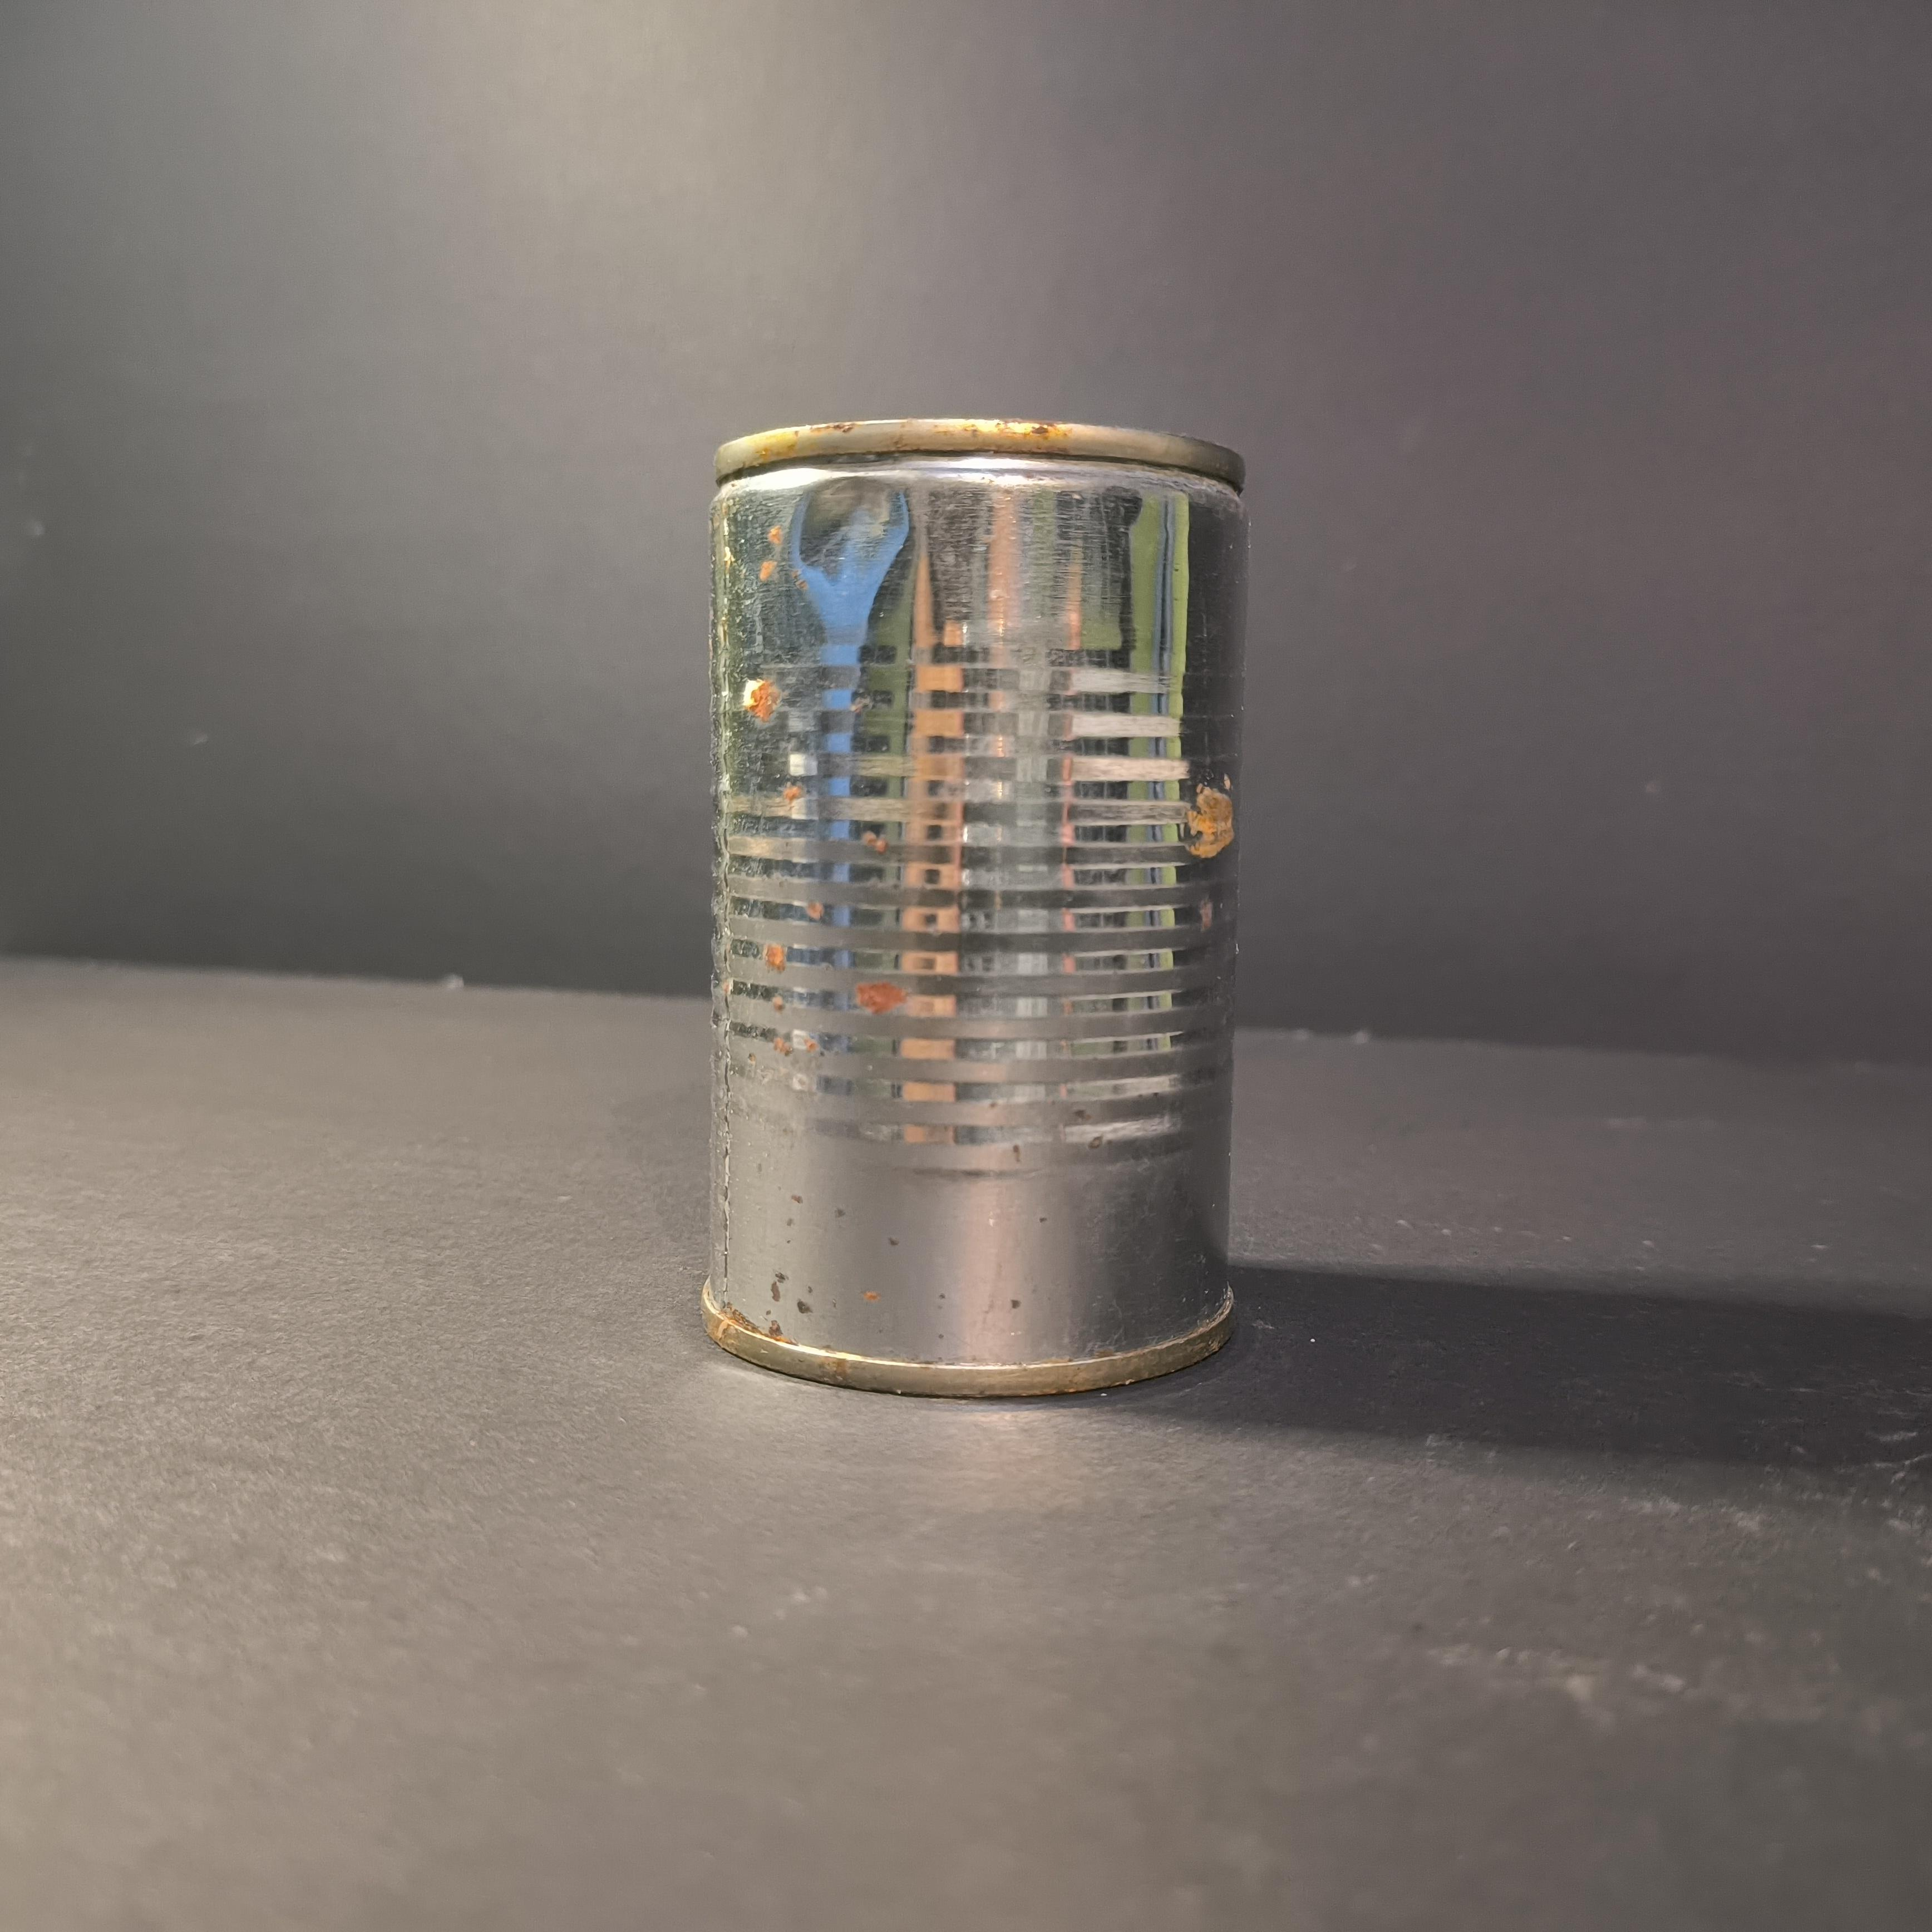Rusted: (701, 387, 1260, 1389)
